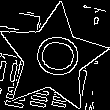O_W: (24, 33, 81, 83)
